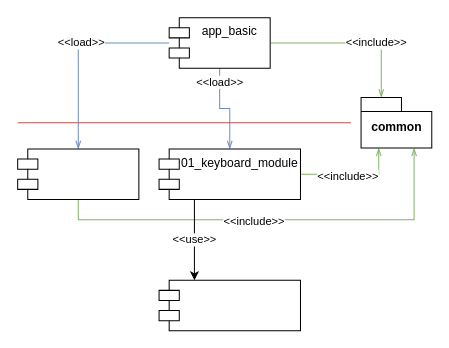
Some shapes in this 449 by 348 pixel diagram are drawn without their labels. Here are the shapes that lost their labels. From the top down, the box of each, then its label:
(17, 148, 139, 199): 00_base_module
(158, 279, 300, 331): app_common_video
